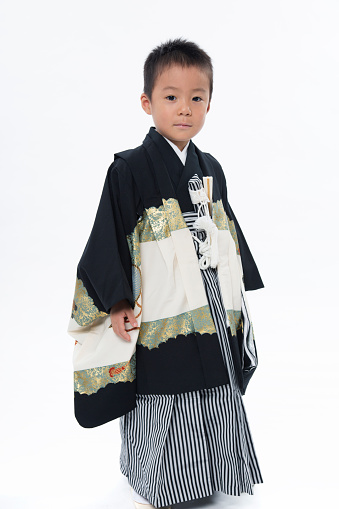em pe: (54, 27, 262, 509)
